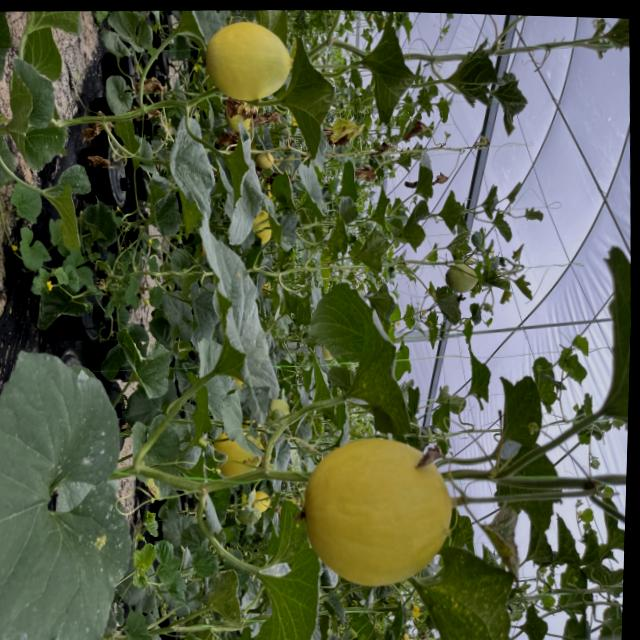CMV: (252, 503, 323, 640), (120, 336, 170, 400), (552, 510, 582, 570), (598, 496, 626, 557), (82, 200, 114, 246), (521, 525, 554, 567), (435, 379, 465, 413), (58, 163, 90, 194)
SLCV: (205, 565, 244, 627)
bacterial wilt: (104, 9, 154, 55), (103, 73, 132, 118), (332, 199, 356, 251), (327, 116, 360, 148), (431, 168, 448, 195), (354, 164, 376, 183), (88, 150, 108, 170), (140, 78, 161, 94), (409, 125, 429, 140), (254, 112, 274, 126), (375, 141, 391, 153)
downy mildew: (0, 353, 135, 640), (403, 532, 517, 640), (520, 603, 547, 640)
healthy: (276, 36, 337, 170), (360, 19, 418, 126), (164, 118, 216, 237), (220, 131, 264, 247), (6, 56, 55, 134), (335, 161, 359, 200), (122, 607, 148, 640), (0, 11, 8, 85)
powdery mildew: (0, 365, 131, 640), (16, 225, 50, 271), (8, 181, 41, 223)
